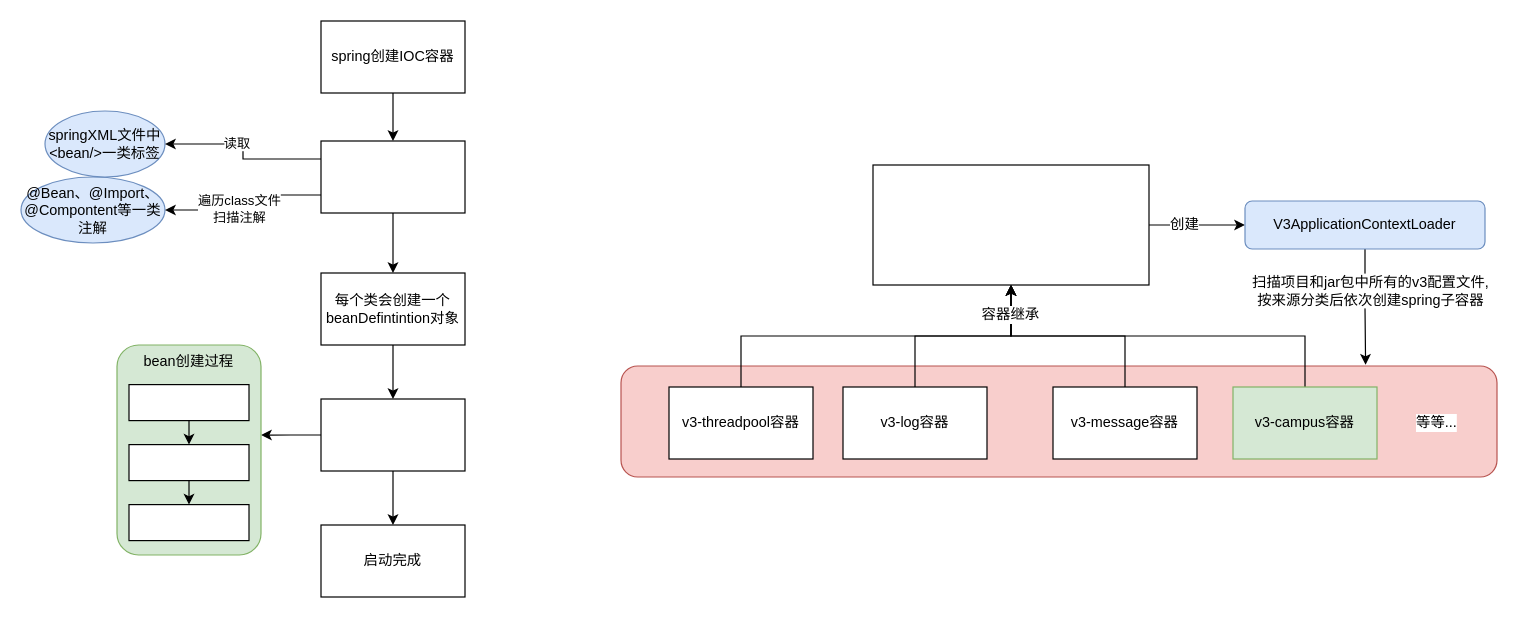
This 1518x618 diagram has some shape labels left out. Each missing label, with the centre of its shape:
spring解析器: the point at 392,176
v3-core容器: the point at 1010,224
初始化: the point at 188,522
反射实例化: the point at 188,402
属性注入: the point at 188,462
遍历beanDefintintion创建bean实例放入IOC容器: the point at 392,434
